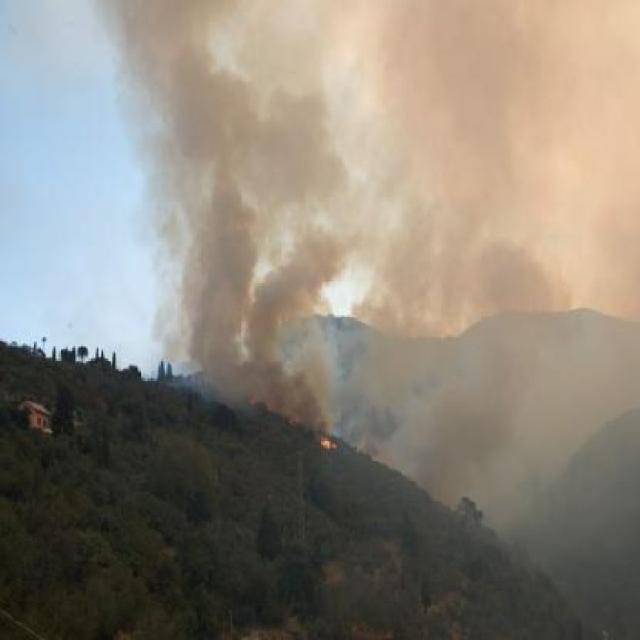Fire: (320, 434, 332, 449)
